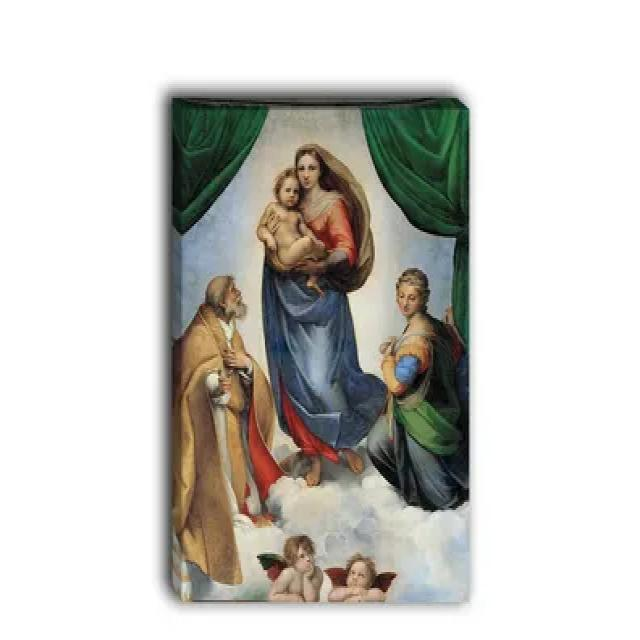Madonna of Loreto: (174, 98, 471, 602)
